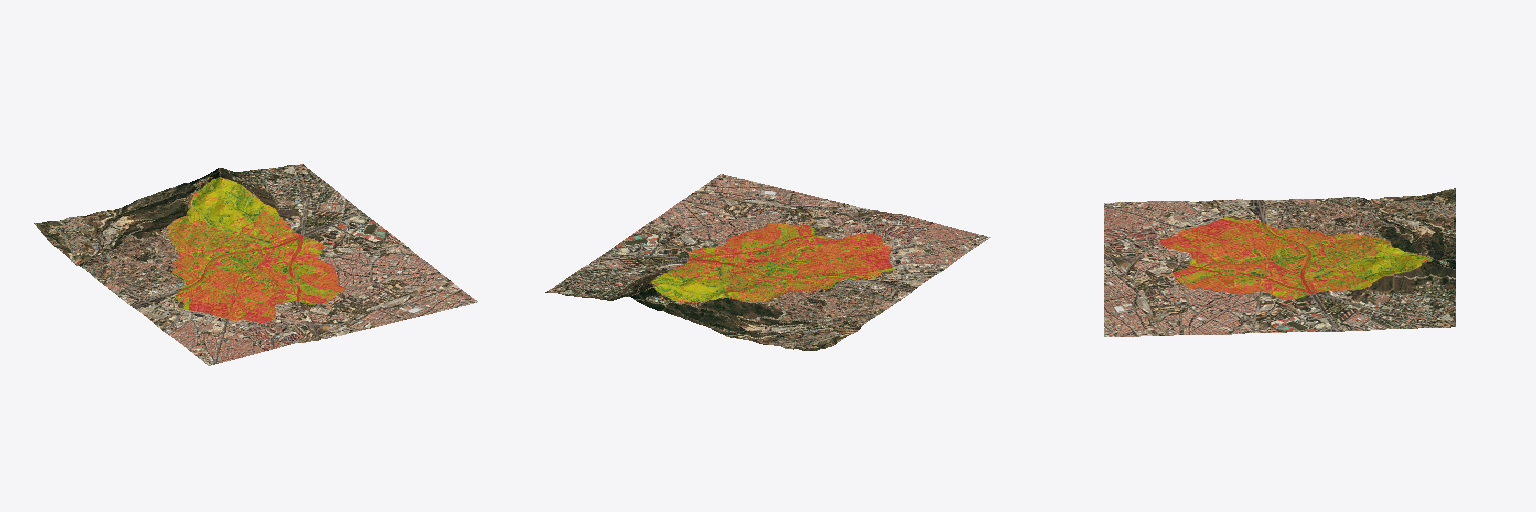
The picture shows the model from 3 angles: view 1: azimuth 30°, elevation 25°; view 2: azimuth 150°, elevation 25°; view 3: azimuth 270°, elevation 25°; orthographic projection.
Parts seen in each view (by area): view 1: verdUrba_MetElipResi_2_verdUrba_MetElipResi_2.001; view 2: verdUrba_MetElipResi_2_verdUrba_MetElipResi_2.001; view 3: verdUrba_MetElipResi_2_verdUrba_MetElipResi_2.001.
Boxes of the visible parts, x1=… form: verdUrba_MetElipResi_2_verdUrba_MetElipResi_2.001: x1=34, y1=164, x2=477, y2=365; verdUrba_MetElipResi_2_verdUrba_MetElipResi_2.001: x1=545, y1=174, x2=990, y2=350; verdUrba_MetElipResi_2_verdUrba_MetElipResi_2.001: x1=1104, y1=188, x2=1455, y2=336.
Bounding box in the file's own units: 3584 × 379 × 4040.
1 materials, 1 textured.